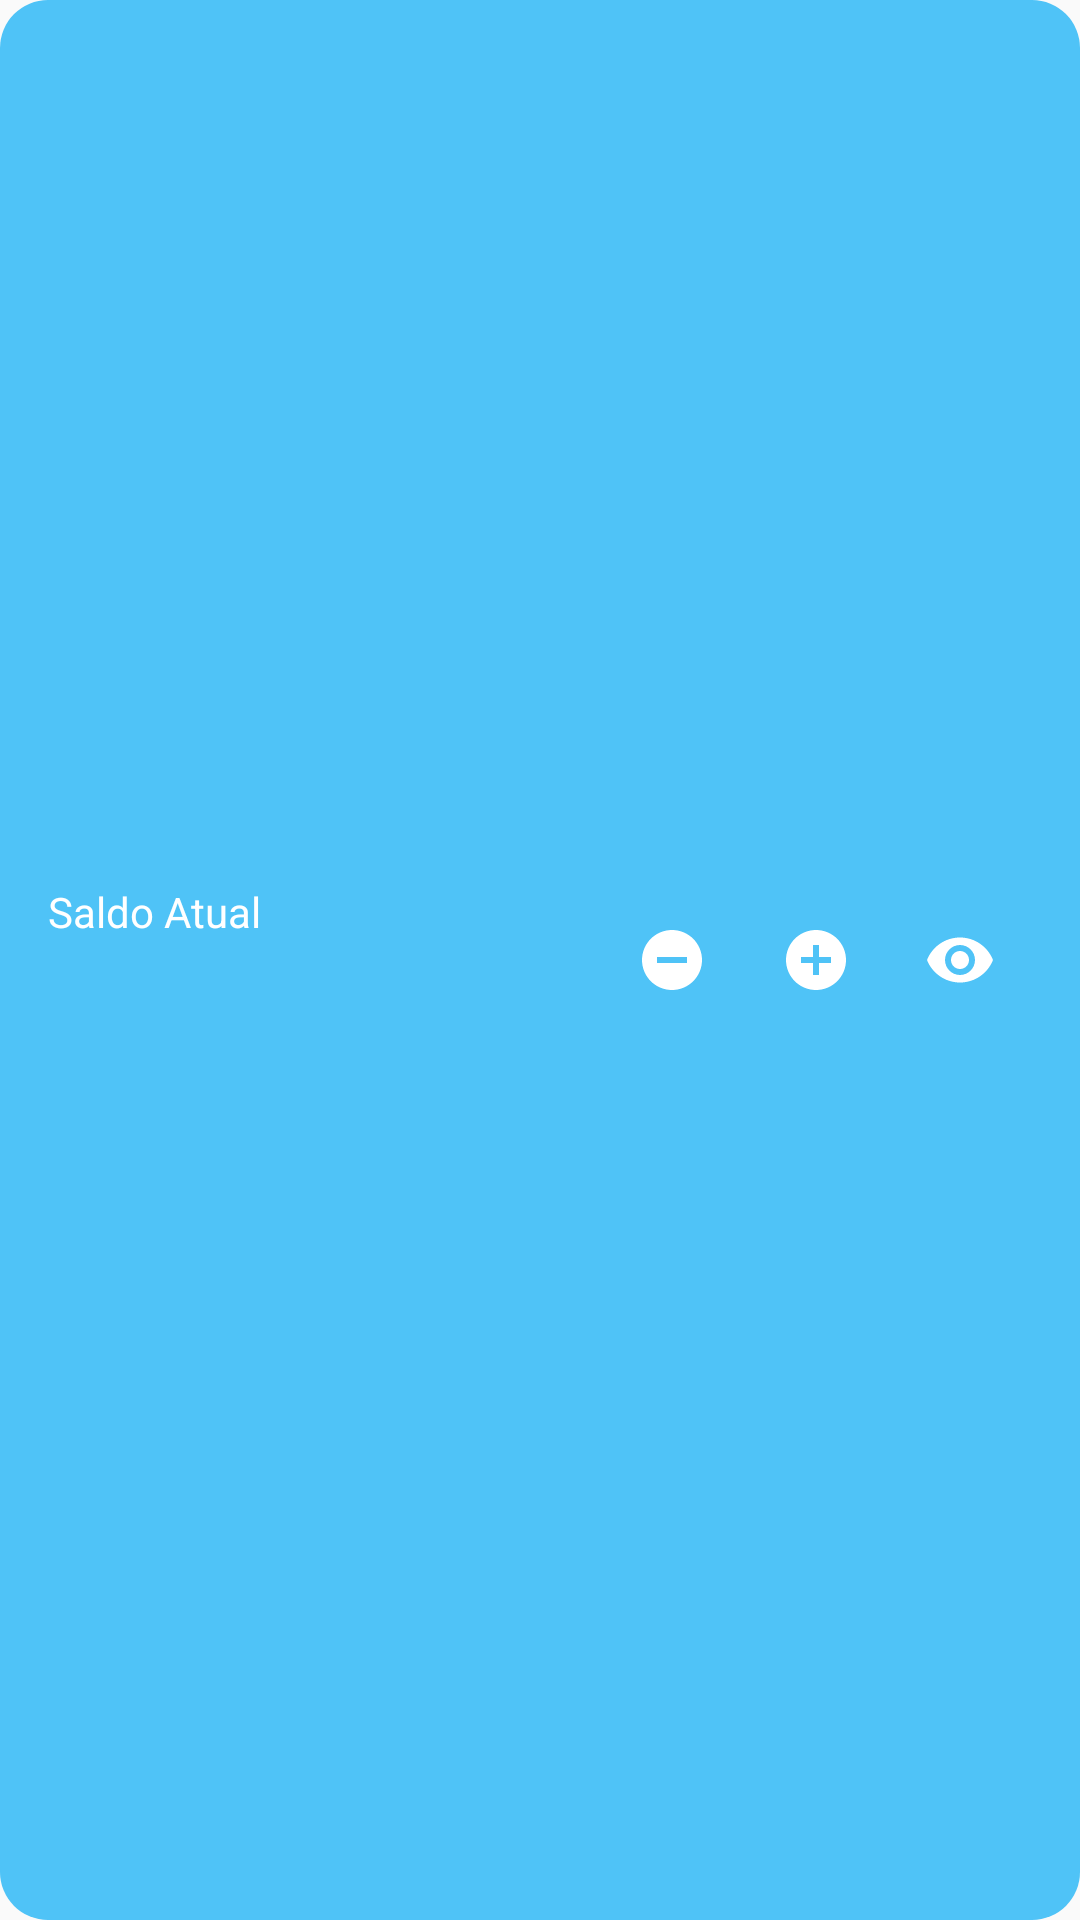

Icons on this 1080×1920 Android screen, each with its box as (x1, y1, x2, y2):
Adicionar Despesa: (642, 930, 702, 990)
Adicionar Receita: (786, 930, 846, 990)
Ocultar/Mostrar Saldo: (927, 937, 993, 983)
